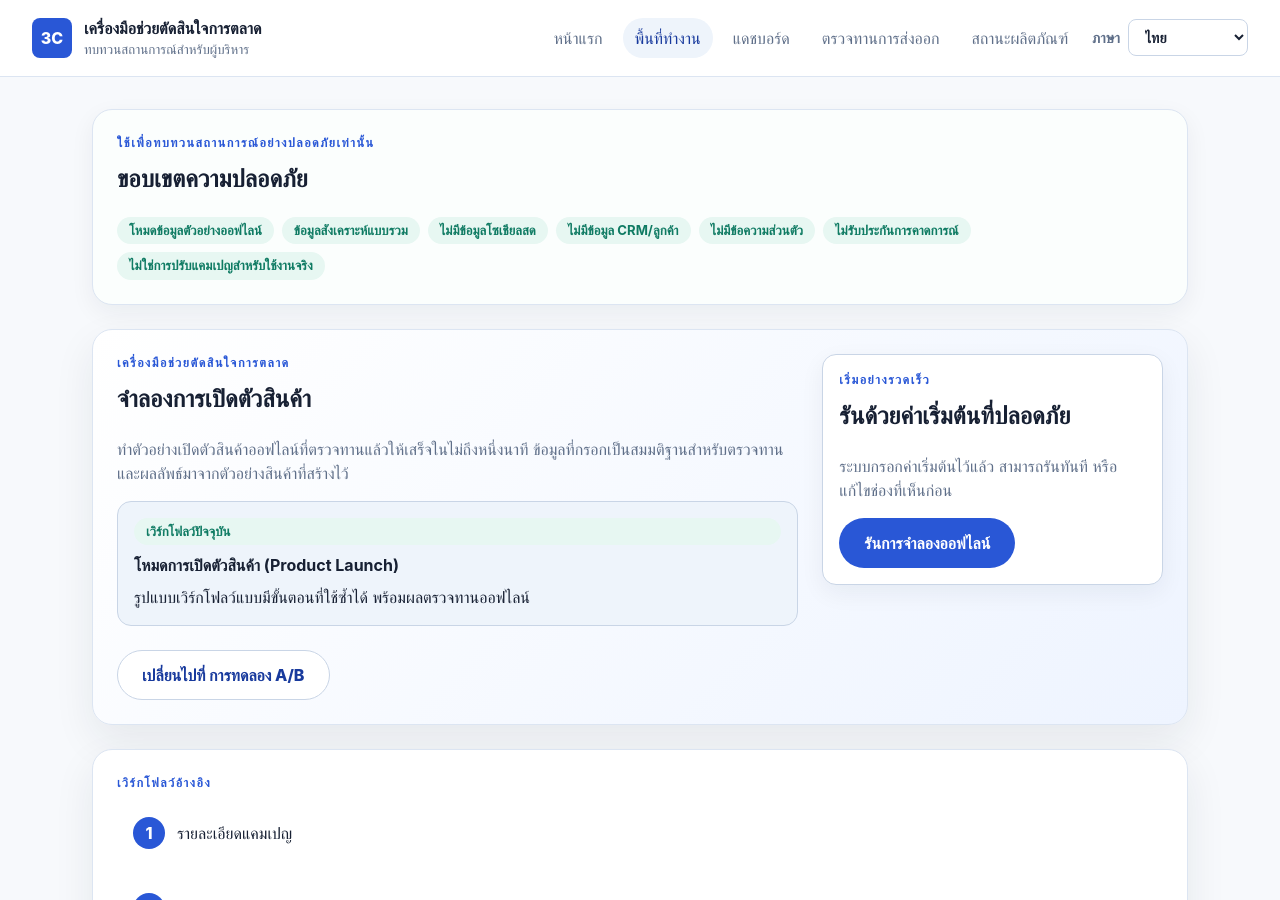
it: M18 Thai-first internationalization › renders Thai and English labels for /workbench
Expected: the heading "จำลองการเปิดตัวสินค้า" is shown, [117,384,311,413]
Select "English" in the dropdown labelled "ภาษา" at x=1188, y=38, box [1128,20,1248,56]
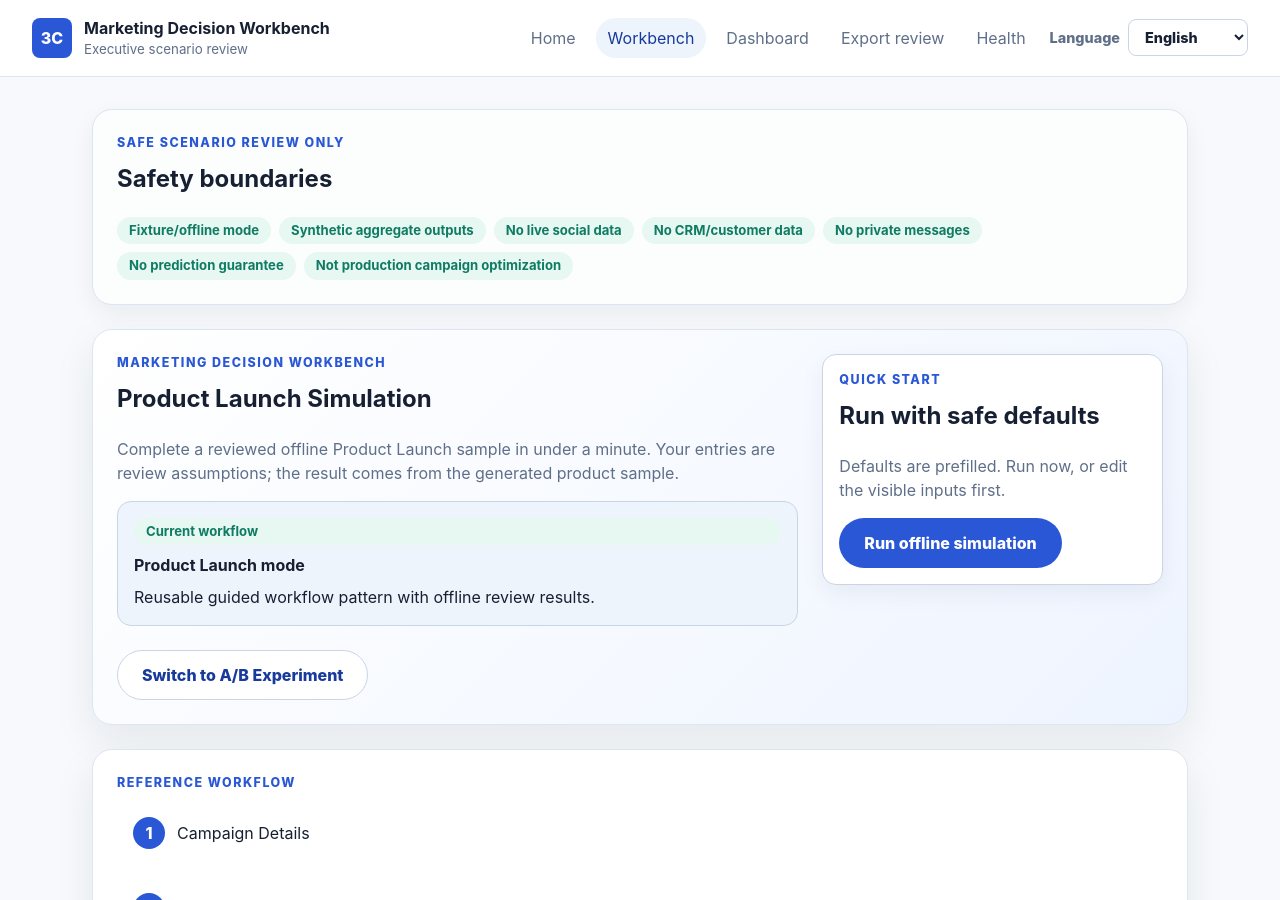
Now the heading "Product Launch Simulation" is shown, box [117,384,432,413]
